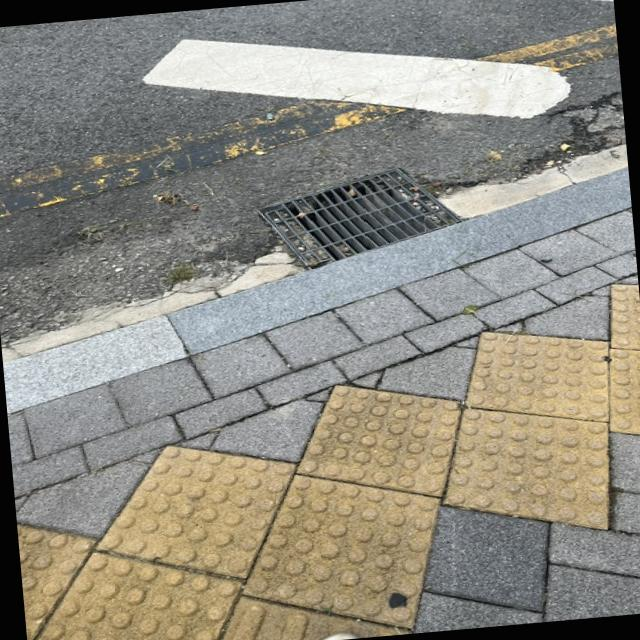drain_area: (299, 181, 438, 261)
drain_full: (258, 168, 461, 269)
